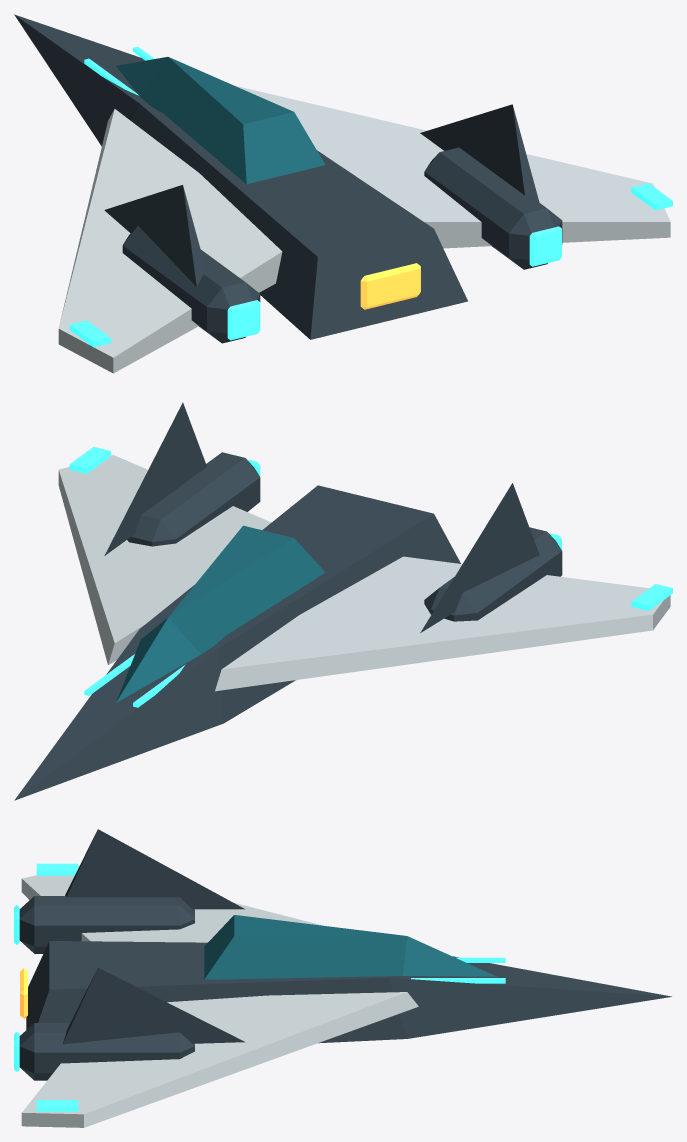
Rendered from ship.glb.
3 renders of one model, top to bottom at view 1: azimuth 30°, elevation 25°; view 2: azimuth 150°, elevation 25°; view 3: azimuth 270°, elevation 25°, orthographic. The views are drawn at different scales.
Parts seen in each view (by area): view 1: Spear fuselage, Ceramic swept wing -1, Ceramic swept wing 1, Cockpit canopy, Engine titanium shroud.001, Engine titanium shroud, Ion fin.001, Ion fin, Aft central reactor, Engine ion aperture, Engine ion aperture.001, Wingtip running light.001 (+1 smaller); view 2: Spear fuselage, Ceramic swept wing -1, Ceramic swept wing 1, Cockpit canopy, Engine titanium shroud.001, Ion fin, Ion fin.001, Engine titanium shroud, Wingtip running light, Wingtip running light.001; view 3: Spear fuselage, Ceramic swept wing 1, Cockpit canopy, Engine titanium shroud, Ion fin.001, Ion fin, Engine titanium shroud.001, Ceramic swept wing -1, Wingtip running light, Wingtip running light.001.
Boxes of the visible parts, left/top/right/bottom form: Spear fuselage: left=14, top=14, right=467, bottom=339; Ceramic swept wing -1: left=58, top=109, right=282, bottom=373; Ceramic swept wing 1: left=235, top=86, right=670, bottom=248; Cockpit canopy: left=116, top=57, right=325, bottom=184; Engine titanium shroud.001: left=424, top=147, right=562, bottom=269; Engine titanium shroud: left=122, top=226, right=260, bottom=343; Ion fin.001: left=420, top=104, right=539, bottom=202; Ion fin: left=104, top=185, right=206, bottom=286; Aft central reactor: left=360, top=263, right=420, bottom=309; Engine ion aperture: left=227, top=300, right=260, bottom=340; Engine ion aperture.001: left=529, top=226, right=561, bottom=266; Wingtip running light.001: left=631, top=183, right=672, bottom=210; Spear fuselage: left=14, top=485, right=460, bottom=800; Ceramic swept wing -1: left=215, top=556, right=670, bottom=691; Ceramic swept wing 1: left=58, top=455, right=271, bottom=664; Cockpit canopy: left=116, top=525, right=325, bottom=702; Engine titanium shroud.001: left=127, top=452, right=260, bottom=546; Ion fin: left=420, top=483, right=539, bottom=633; Ion fin.001: left=104, top=402, right=206, bottom=555; Engine titanium shroud: left=424, top=527, right=562, bottom=621; Wingtip running light: left=631, top=584, right=672, bottom=610; Wingtip running light.001: left=69, top=447, right=110, bottom=473; Spear fuselage: left=26, top=941, right=671, bottom=1043; Ceramic swept wing 1: left=21, top=992, right=418, bottom=1127; Cockpit canopy: left=204, top=915, right=496, bottom=979; Engine titanium shroud: left=19, top=896, right=194, bottom=953; Ion fin.001: left=63, top=968, right=245, bottom=1044; Ion fin: left=65, top=829, right=244, bottom=909; Engine titanium shroud.001: left=19, top=1023, right=194, bottom=1080; Ceramic swept wing -1: left=21, top=865, right=322, bottom=942; Wingtip running light: left=36, top=863, right=78, bottom=875; Wingtip running light.001: left=36, top=1100, right=78, bottom=1111.
Bounding box in the file's own units: 2.56 × 0.6 × 2.85.
